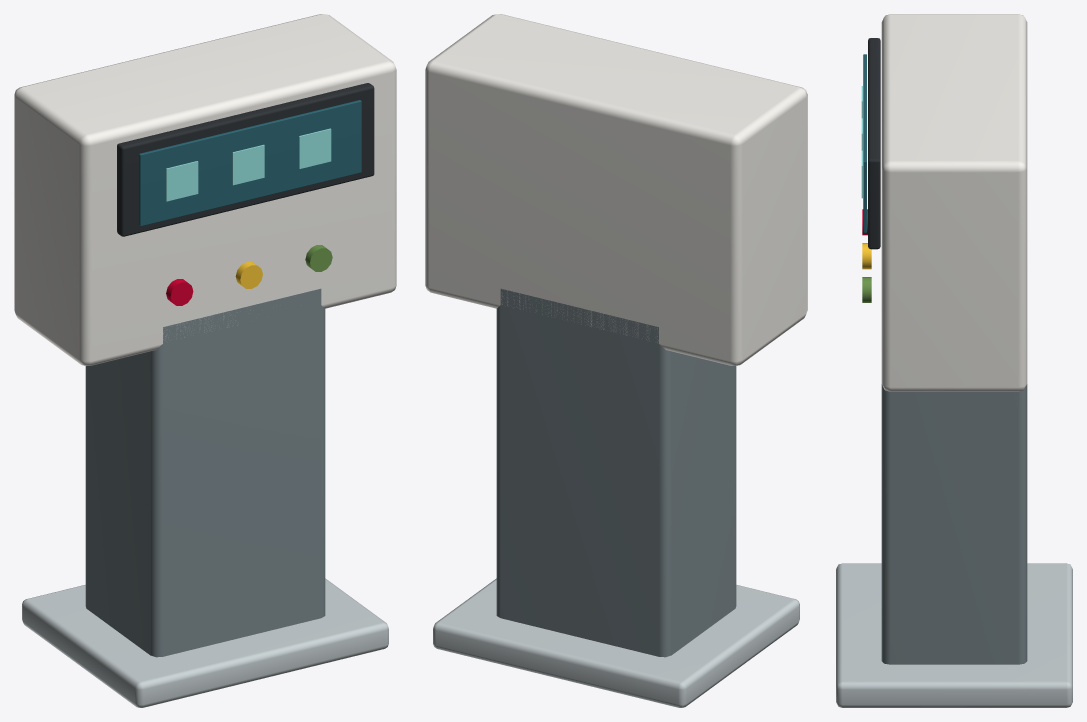
Rendered from Operator_Console.fbx.
3 renders of one model, left to right at view 1: azimuth 30°, elevation 25°; view 2: azimuth 150°, elevation 25°; view 3: azimuth 270°, elevation 25°, orthographic.
Visible parts, largest first — view 1: Operator_Console_White, Operator_Console_SteelDark, Operator_Console_Steel, Operator_Console_Screen, Operator_Console_Rubber, Operator_Console_ScreenLight; view 2: Operator_Console_White, Operator_Console_SteelDark, Operator_Console_Steel; view 3: Operator_Console_White, Operator_Console_SteelDark, Operator_Console_Steel, Operator_Console_Rubber, Operator_Console_Screen.
Part boxes in pixels (left/top/right/bottom): Operator_Console_White: left=14, top=14, right=396, bottom=365; Operator_Console_SteelDark: left=85, top=288, right=325, bottom=657; Operator_Console_Steel: left=22, top=578, right=388, bottom=707; Operator_Console_Screen: left=139, top=100, right=361, bottom=226; Operator_Console_Rubber: left=117, top=83, right=374, bottom=236; Operator_Console_ScreenLight: left=166, top=128, right=331, bottom=201; Operator_Console_White: left=425, top=14, right=807, bottom=365; Operator_Console_SteelDark: left=496, top=288, right=736, bottom=657; Operator_Console_Steel: left=433, top=578, right=799, bottom=707; Operator_Console_White: left=881, top=14, right=1027, bottom=391; Operator_Console_SteelDark: left=881, top=384, right=1027, bottom=664; Operator_Console_Steel: left=836, top=563, right=1072, bottom=707; Operator_Console_Rubber: left=868, top=38, right=880, bottom=249; Operator_Console_Screen: left=863, top=54, right=866, bottom=232.
Bounding box in the file's own units: 100 × 170 × 65.
